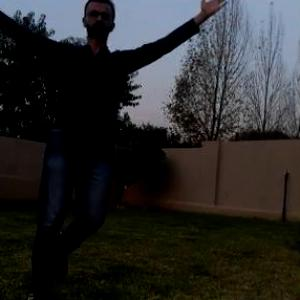takeoff: (0, 0, 222, 294)
